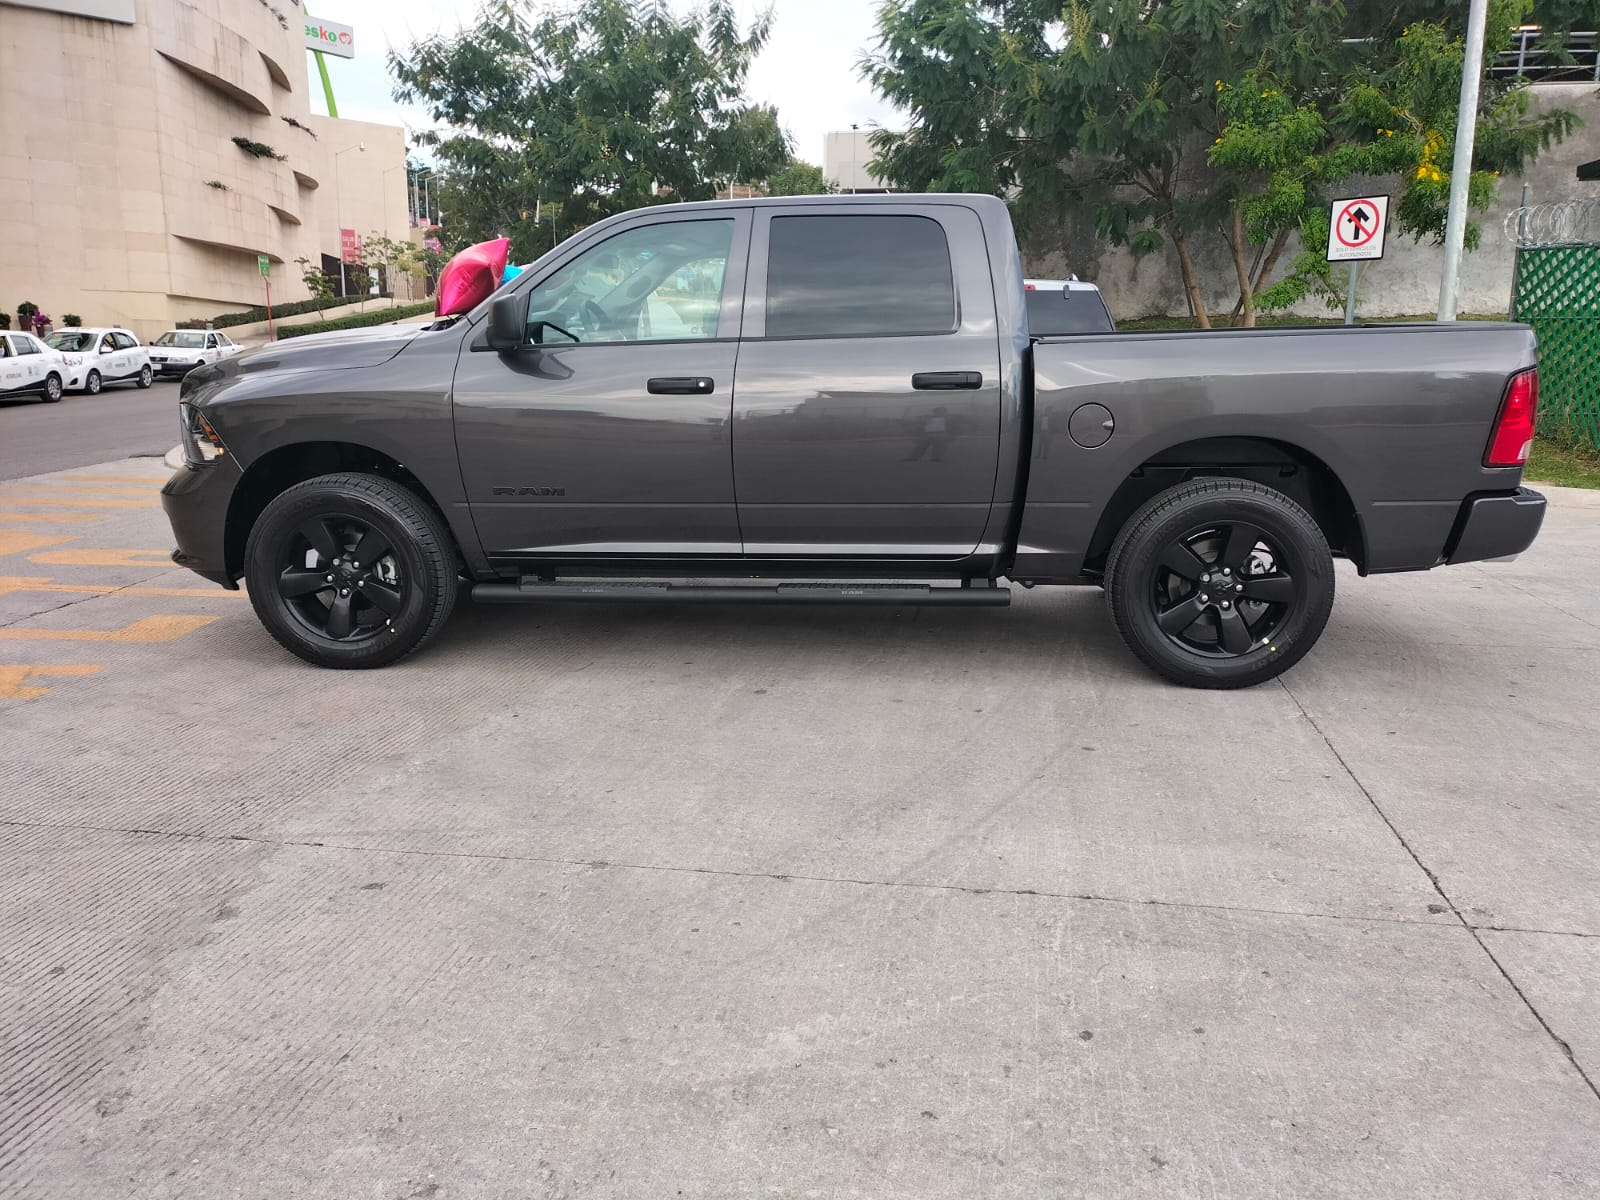Auto: (152, 187, 1550, 682), (37, 326, 156, 395), (136, 326, 251, 389), (1, 332, 67, 408)
